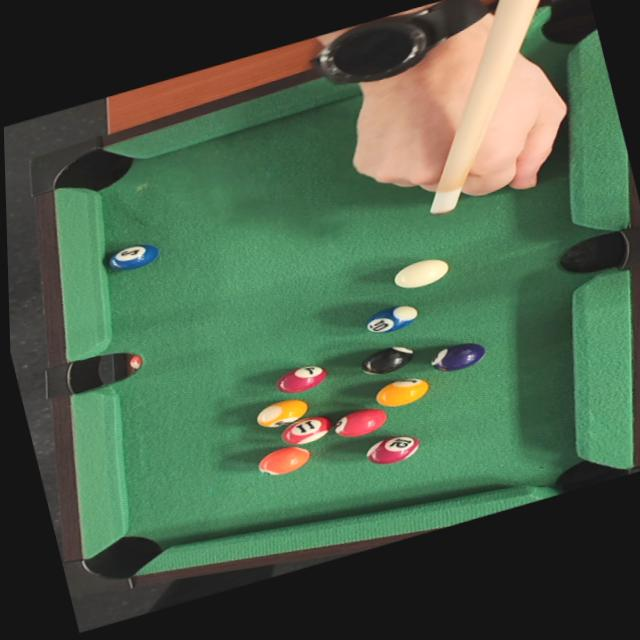cue ball: (382, 249, 458, 297)
other: (246, 433, 322, 485), (422, 329, 497, 381), (347, 337, 420, 385), (355, 427, 422, 476), (269, 355, 340, 399), (360, 296, 429, 340), (328, 399, 397, 443), (245, 391, 311, 436), (370, 369, 436, 414), (107, 236, 172, 277), (282, 407, 340, 451)
